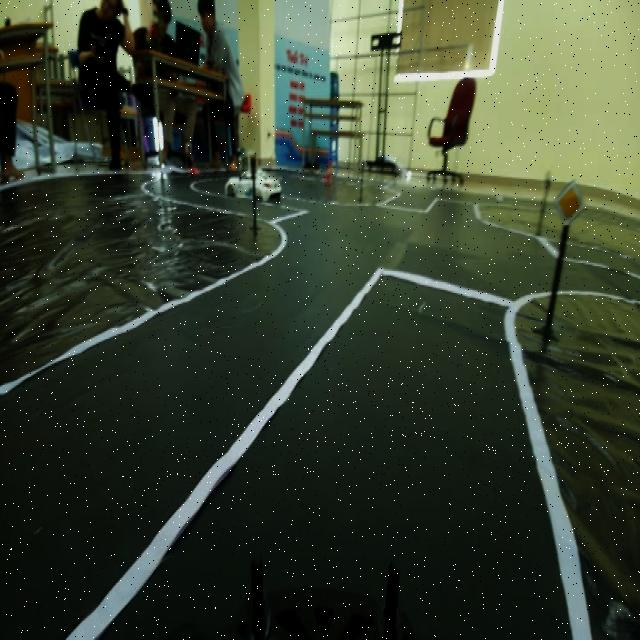priority: (550, 166, 584, 228)
